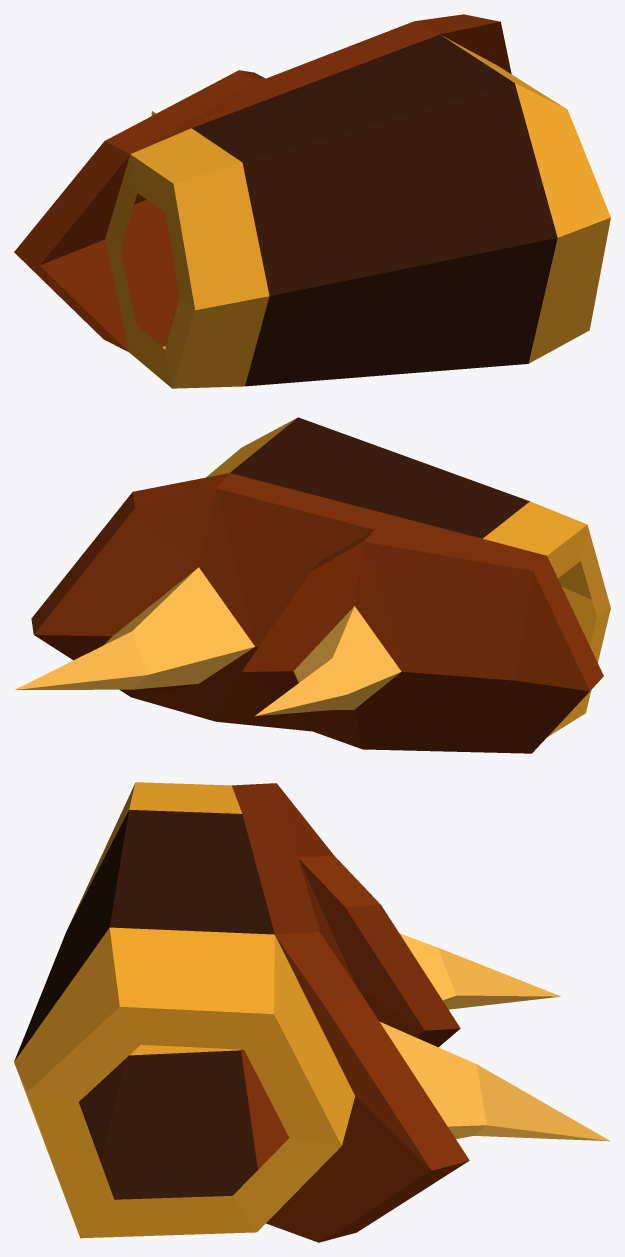
File: Bracer 06.FBX
3 views of the same model, one above another, from view 1: azimuth 30°, elevation 25°; view 2: azimuth 150°, elevation 25°; view 3: azimuth 270°, elevation 25° (orthographic). The views are drawn at different scales.
Visible parts, largest first — view 1: Bracer 06; view 2: Bracer 06; view 3: Bracer 06.
Part boxes in pixels (<box>): Bracer 06: <box>14,14,610,388</box>; Bracer 06: <box>14,417,610,753</box>; Bracer 06: <box>14,782,610,1242</box>.
Size of the model in its own units: 22.54 by 10.57 by 19.01.
